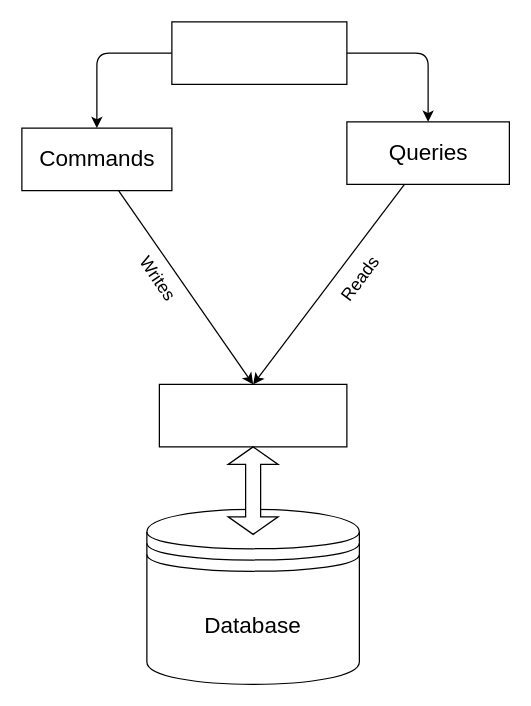
Image size: 531x706. Some labels were removed from this diagram. The box of each missing label's shape, as (x1, y1, x2, y2) in pixels:
Repositories: (158, 383, 347, 447)
Services: (171, 21, 347, 84)
